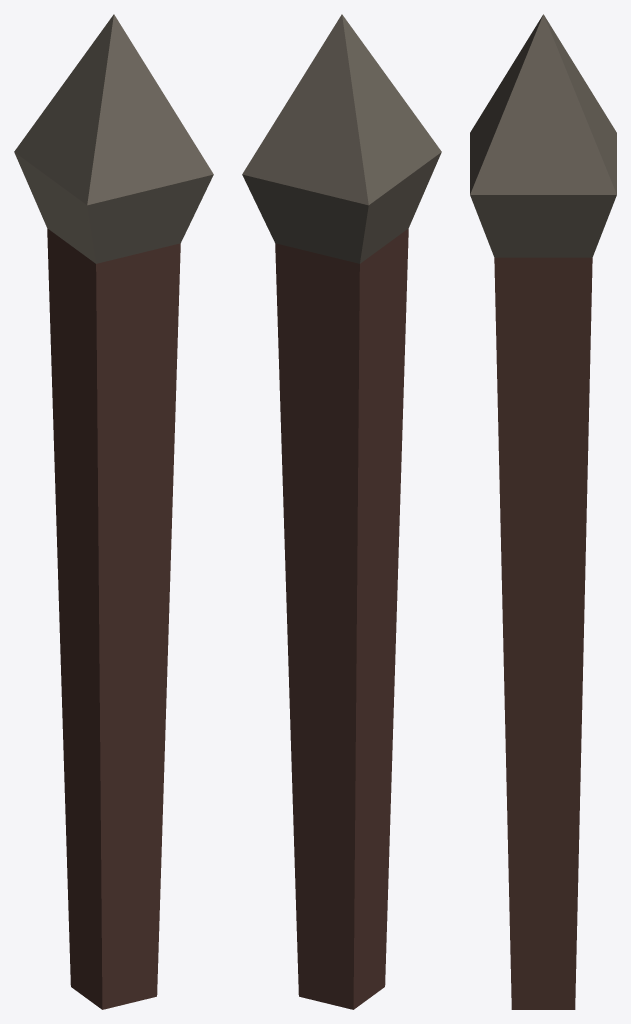
File: Torch03.fbx
The picture shows the model from 3 angles, left to right: view 1: azimuth 30°, elevation 25°; view 2: azimuth 150°, elevation 25°; view 3: azimuth 270°, elevation 25°; orthographic projection.
Visible parts, largest first — view 1: Torch03; view 2: Torch03; view 3: Torch03.
Part boxes in pixels (left/top/right/bottom): Torch03: left=14, top=14, right=213, bottom=1009; Torch03: left=242, top=14, right=441, bottom=1009; Torch03: left=470, top=14, right=616, bottom=1009.
Size of the model in its own units: 18.18 by 134 by 18.18.
